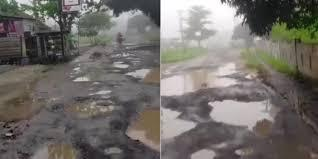Pothole: (199, 93, 318, 144), (157, 59, 268, 99), (0, 60, 53, 124), (180, 137, 315, 159), (121, 103, 166, 153), (100, 51, 168, 84), (55, 88, 126, 119), (27, 131, 85, 159), (98, 24, 152, 52), (152, 103, 193, 139), (73, 60, 108, 96), (93, 132, 131, 159)
